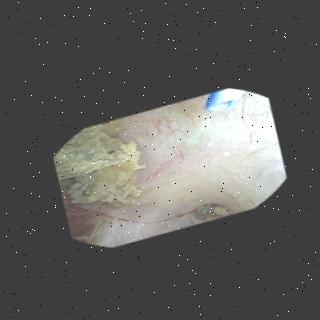fiber: (206, 91, 244, 110)
stone: (59, 119, 145, 207), (214, 206, 230, 215)
tissue: (76, 93, 280, 243)
